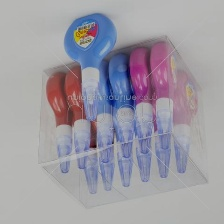book: (34, 31, 212, 211)
correction_fluid: (59, 10, 118, 123), (143, 74, 182, 180), (61, 63, 99, 170), (69, 91, 105, 196), (86, 57, 121, 164), (43, 68, 78, 175), (125, 80, 160, 185), (146, 41, 179, 150), (105, 49, 138, 158), (167, 68, 200, 175), (125, 44, 156, 154), (89, 88, 121, 193), (109, 84, 137, 189)
